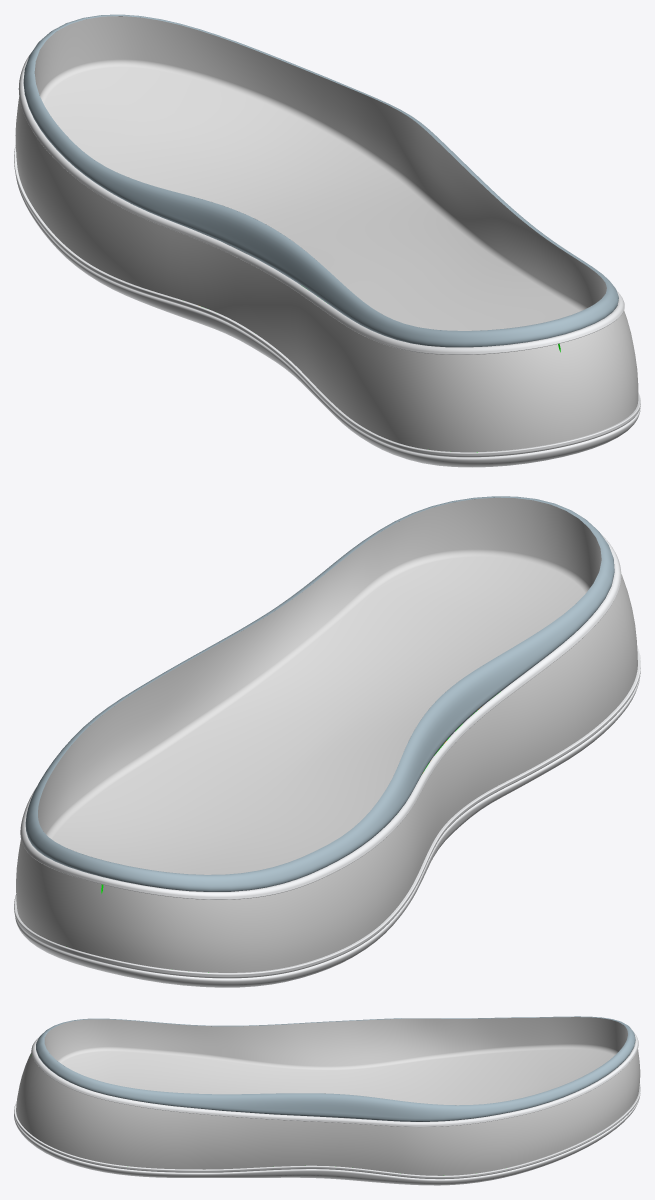
3 views of the same model, one above another, from view 1: azimuth 30°, elevation 25°; view 2: azimuth 150°, elevation 25°; view 3: azimuth 270°, elevation 25° (orthographic). The views are drawn at different scales.
Visible parts, largest first — view 1: LL20_Nº35___100_; view 2: LL20_Nº35___100_; view 3: LL20_Nº35___100_.
Boxes of the visible parts, left/top/right/bottom form: LL20_Nº35___100_: left=14, top=14, right=640, bottom=467; LL20_Nº35___100_: left=14, top=496, right=640, bottom=987; LL20_Nº35___100_: left=14, top=1016, right=640, bottom=1185.
Size of the model in its own units: 102 by 46.04 by 263.
